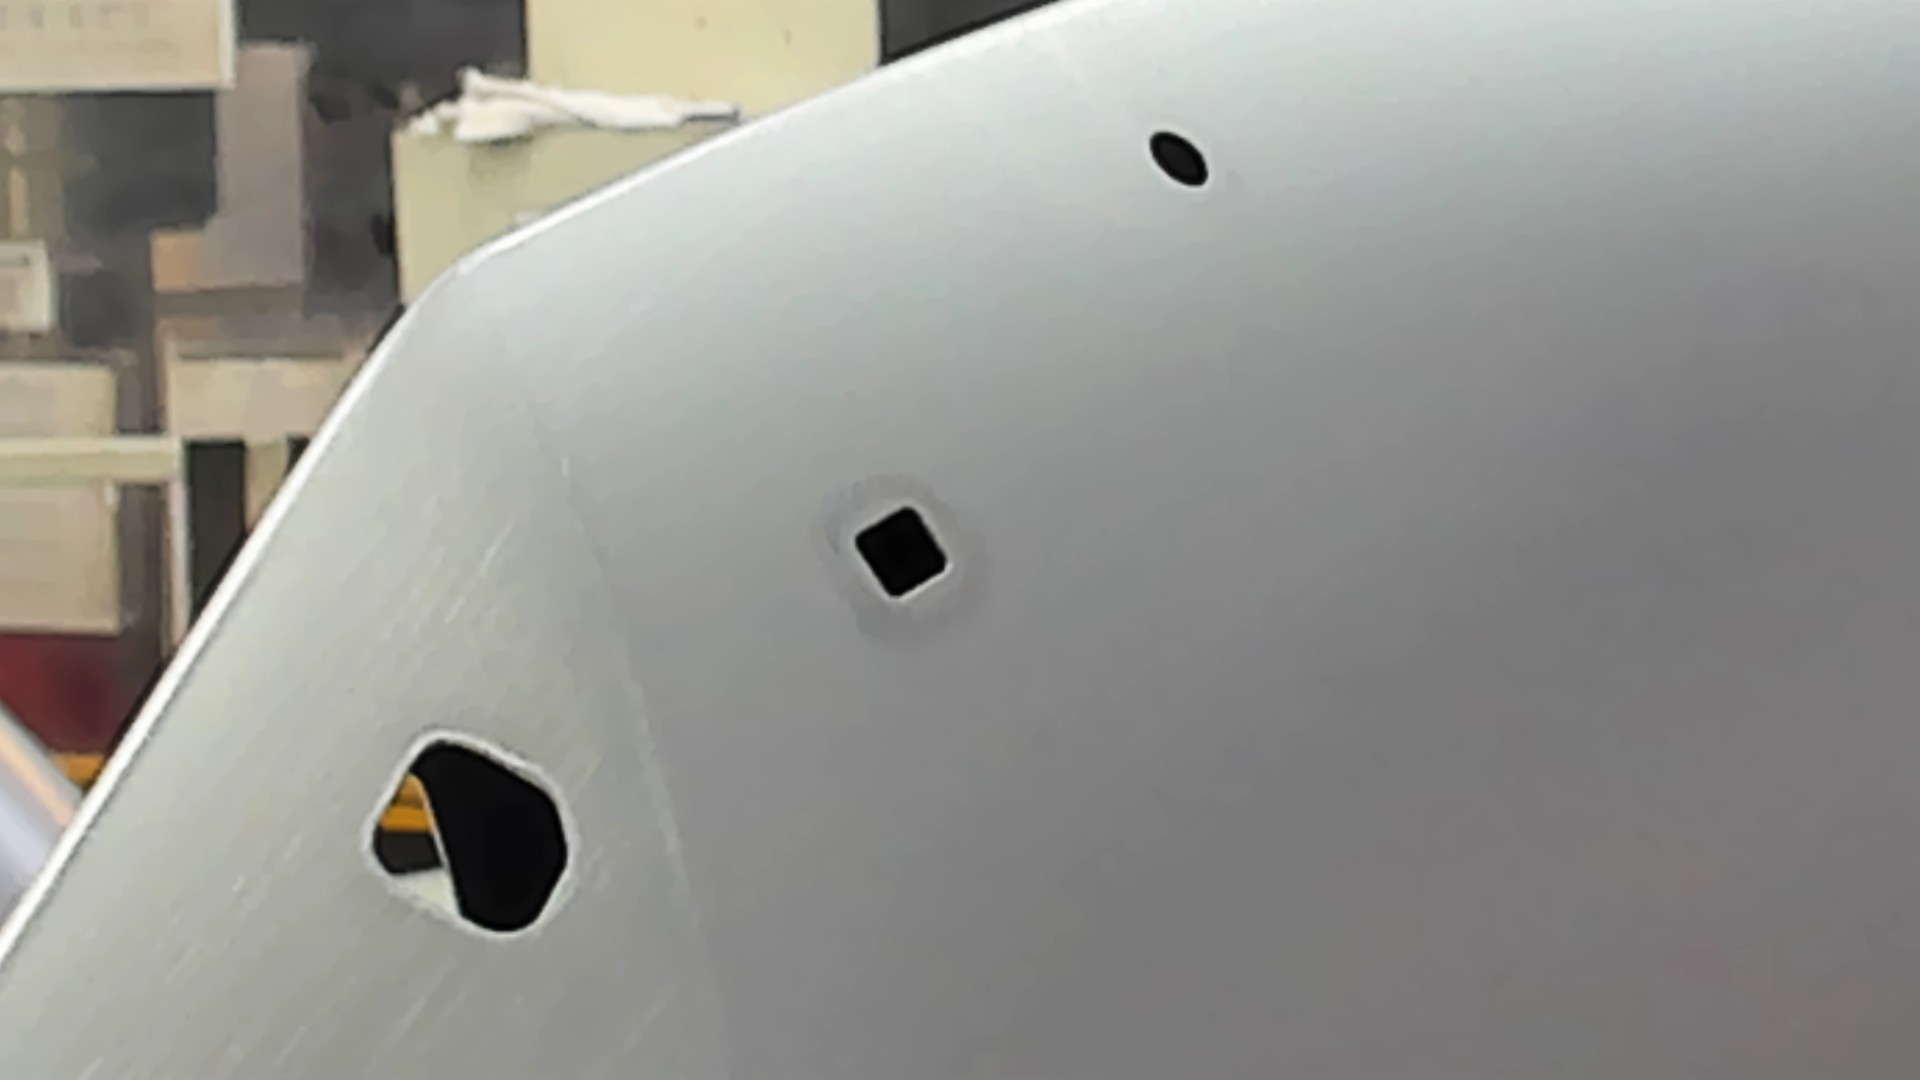chico: (1143, 124, 1213, 194)
grande: (348, 727, 582, 945)
mediano: (848, 497, 955, 609)
